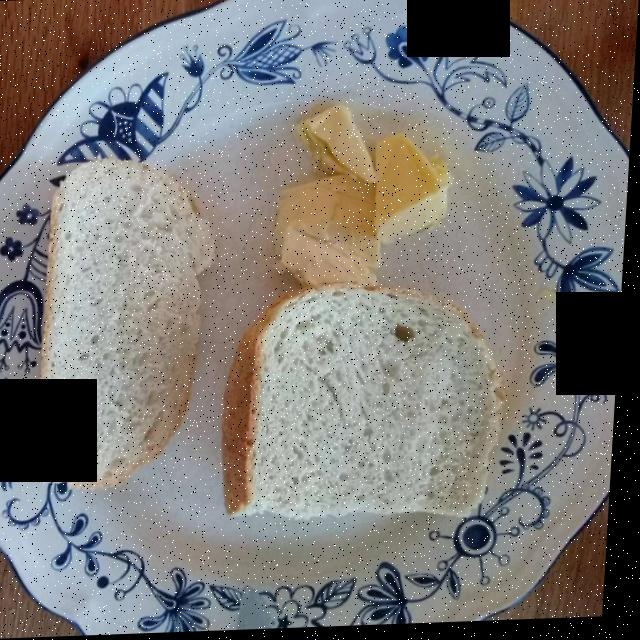bread-white: (50, 164, 501, 515)
butter: (276, 108, 461, 290)
